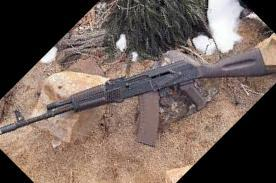larga: (0, 47, 270, 148)
